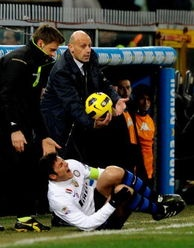falling: (38, 141, 179, 232)
